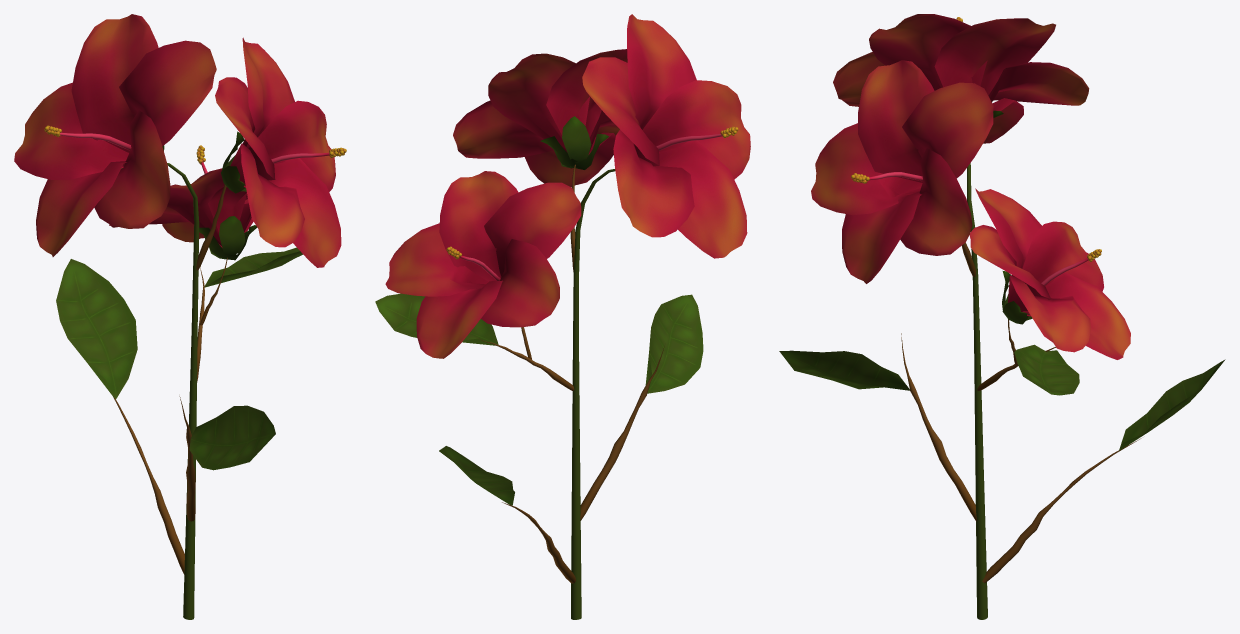
The model's file is flower.glb.
3 renders of one model, left to right at view 1: azimuth 30°, elevation 25°; view 2: azimuth 150°, elevation 25°; view 3: azimuth 270°, elevation 25°, orthographic. The views are drawn at different scales.
Visible parts, largest first — view 1: Object_6, Object_3, Object_4; view 2: Object_6, Object_3, Object_4; view 3: Object_6, Object_3, Object_4.
Part boxes in pixels (box(x1,y1,x2,y2)): Object_6: box(14, 14, 341, 470); Object_3: box(121, 145, 199, 619); Object_4: box(113, 160, 230, 574); Object_6: box(375, 14, 750, 505); Object_3: box(571, 169, 615, 619); Object_4: box(481, 164, 664, 583); Object_6: box(779, 14, 1225, 450); Object_3: box(967, 163, 987, 619); Object_4: box(901, 242, 1141, 583).
Bounding box in the file's own units: 6.92 × 12.16 × 8.3.
Materials: 2 (2 with a texture image).
